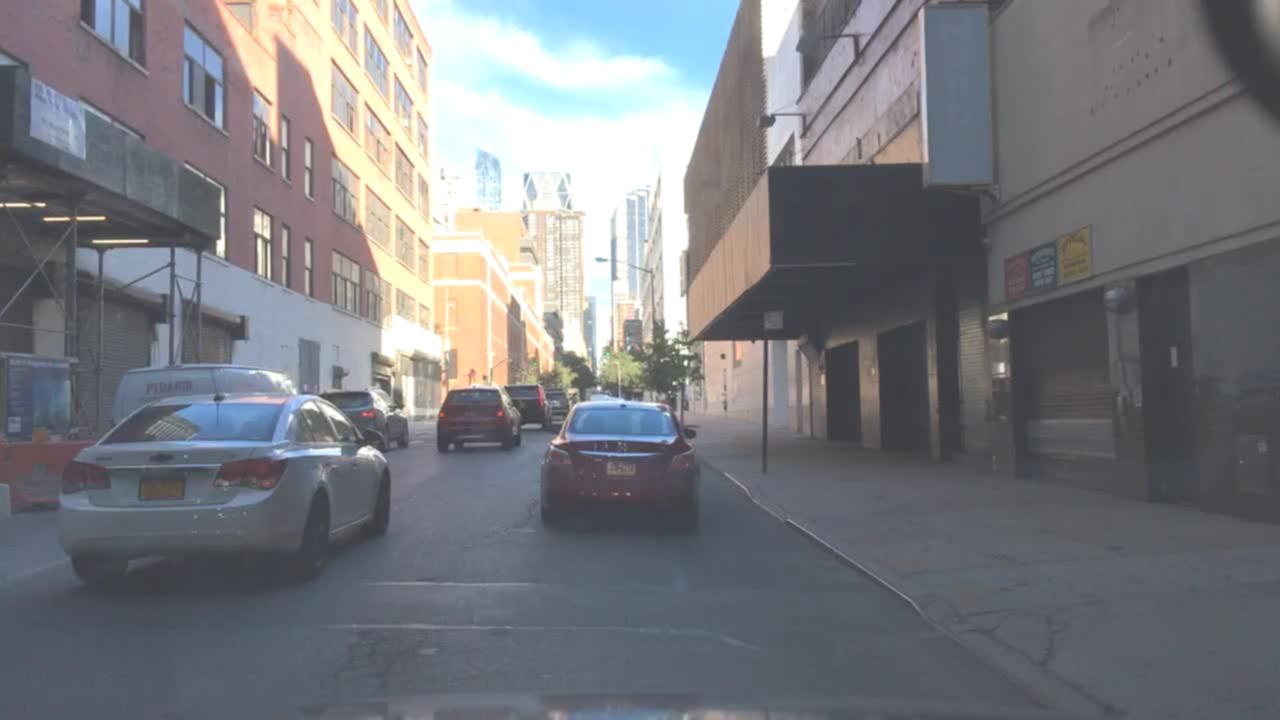chevrolet: (143, 448, 174, 468)
